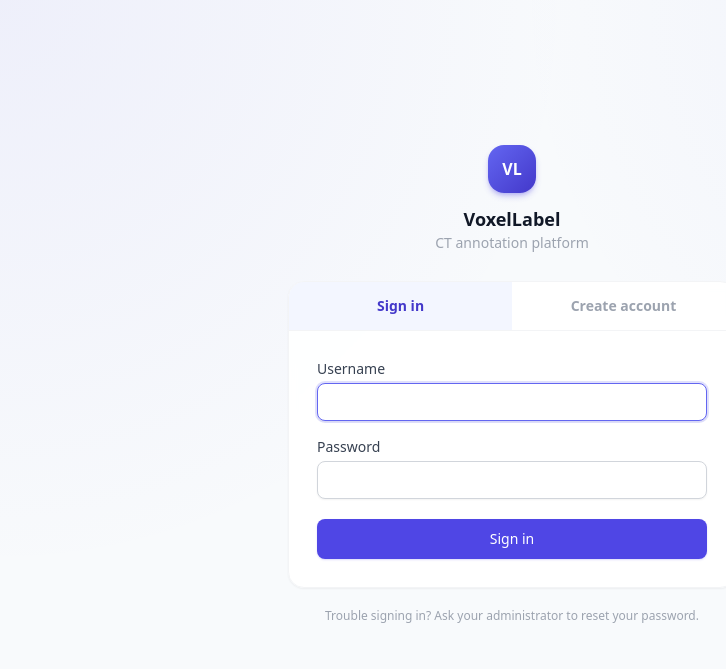
AuthPage sign in › shows an inline error on a wrong password and stays on the form
In the field labelled "Username": (512, 402) [317, 382, 707, 420], type "doc"
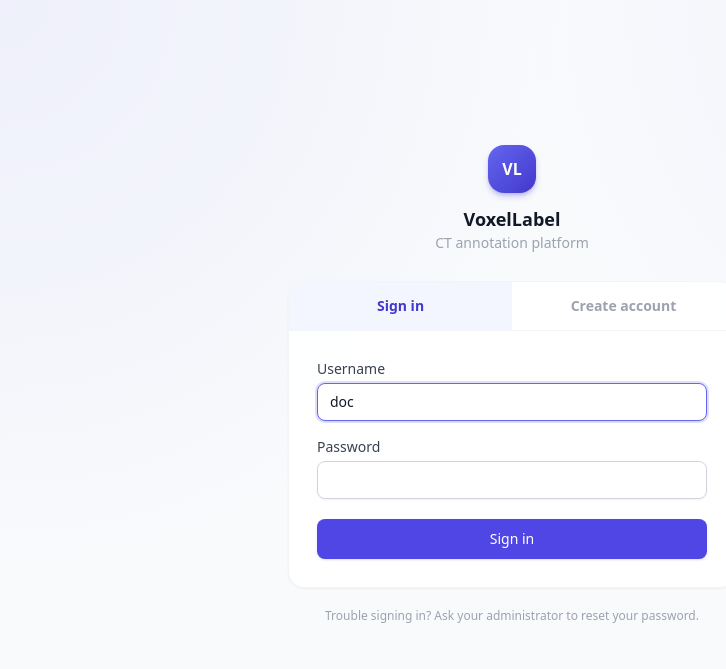
In the password field labelled "Password": (512, 480) [317, 460, 707, 498], type "nope"
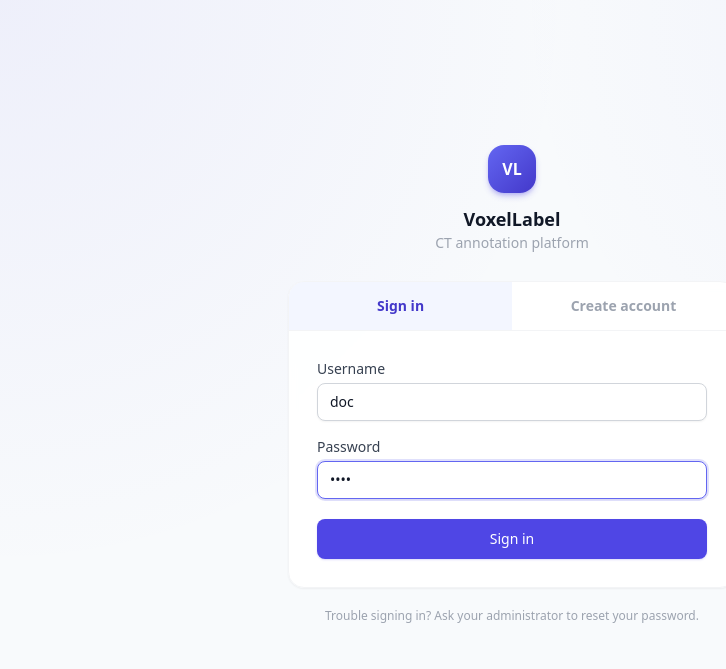
Click the button with test id "signin-submit": (512, 538) [317, 518, 707, 558]
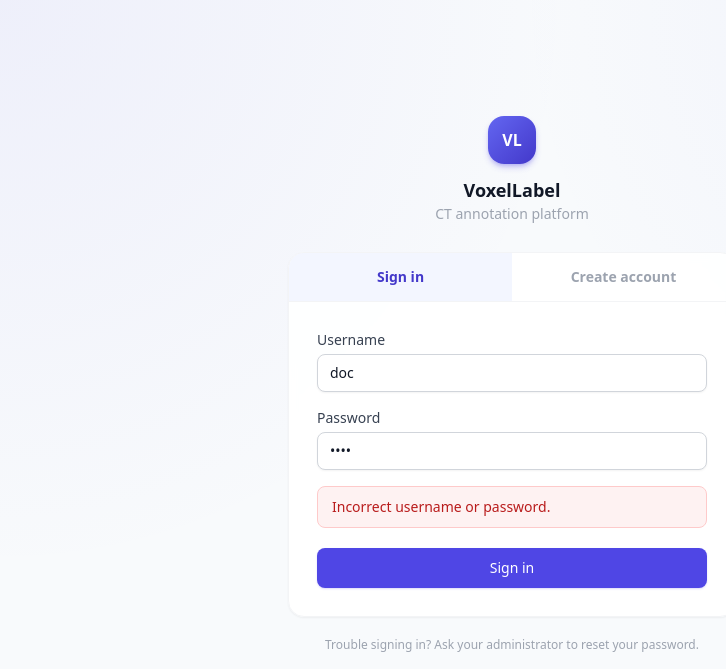
Expected: the button with test id "signin-submit" is enabled, [317, 548, 707, 588]
Now the text "Incorrect username or password." is shown, box [317, 486, 707, 528]
